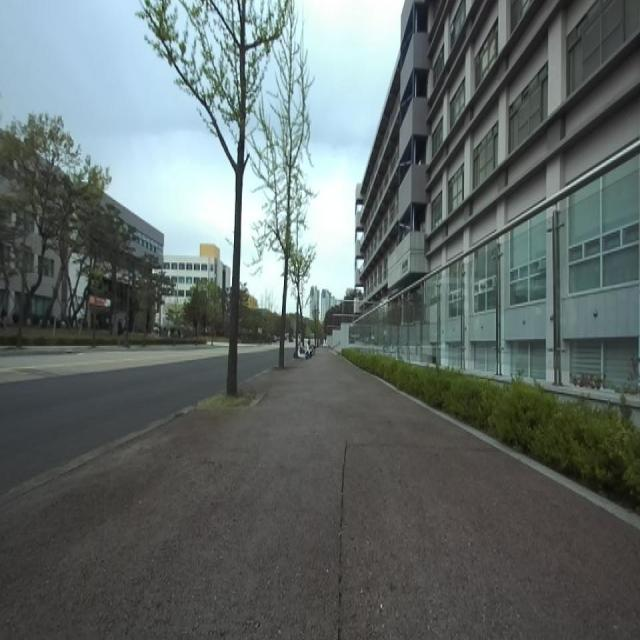sidewalk: (0, 352, 640, 639), (307, 472, 312, 507)
